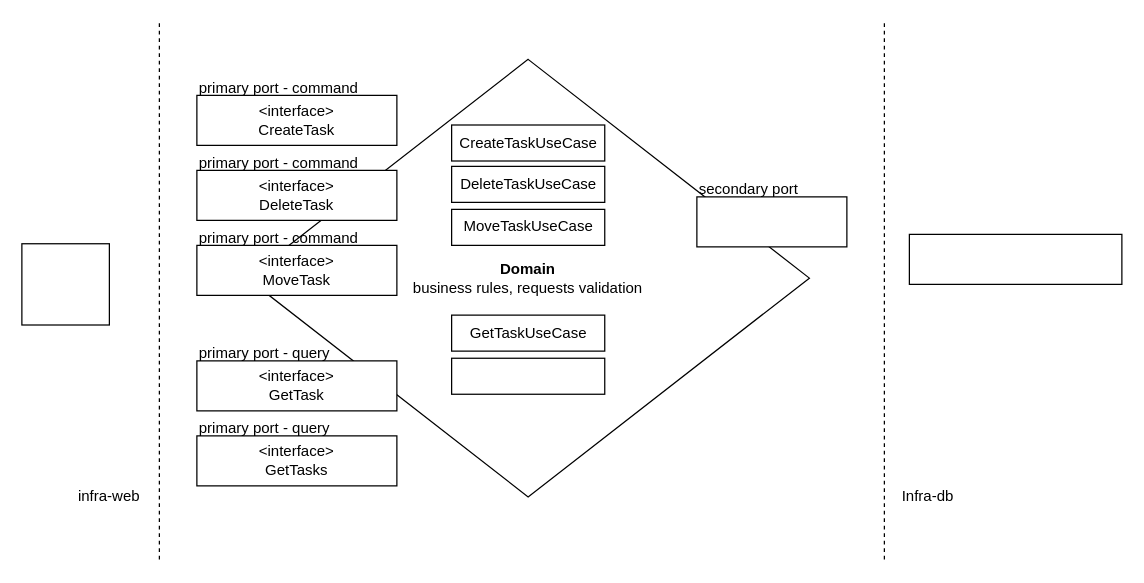
This 1144x583 diagram has some shape labels left out. The centre of each missing label's shape, as x and y in pixels:
"<interface> TaskPort" belongs at (x=771, y=221).
"GetTasksUseCase" belongs at (x=527, y=375).
"InMemoryTaskDb" belongs at (x=1015, y=258).
"Ktor web server" belongs at (x=65, y=283).
